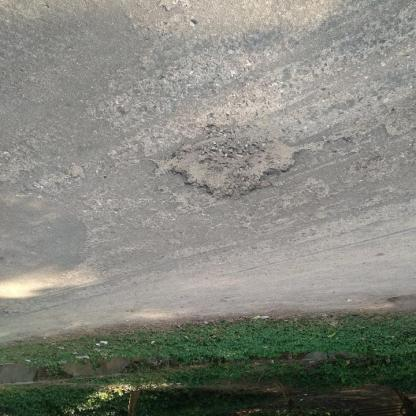pothole: (150, 127, 308, 204)
